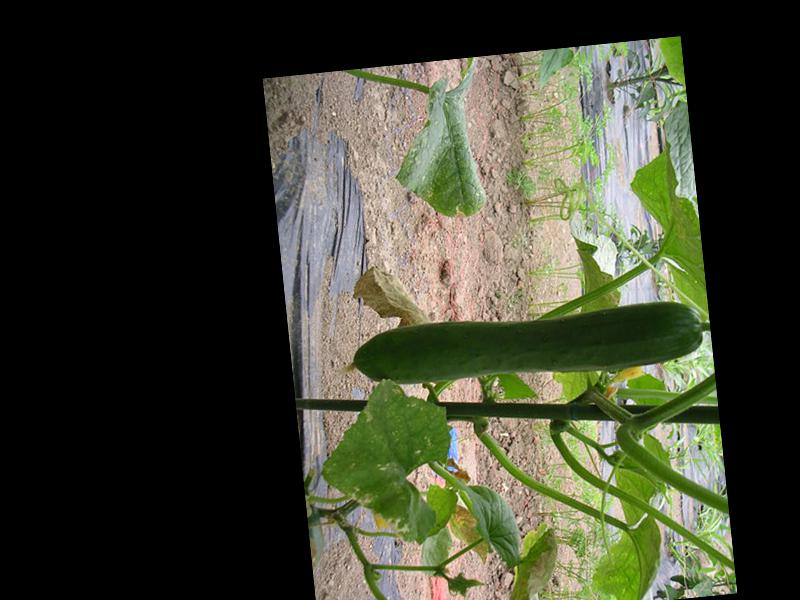Cucumber: (341, 296, 705, 397)
